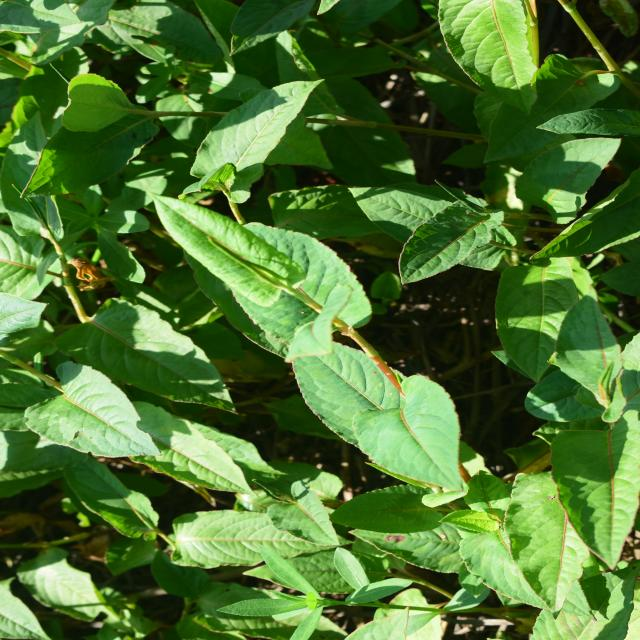Chinese_knotweed: (153, 166, 428, 456)
